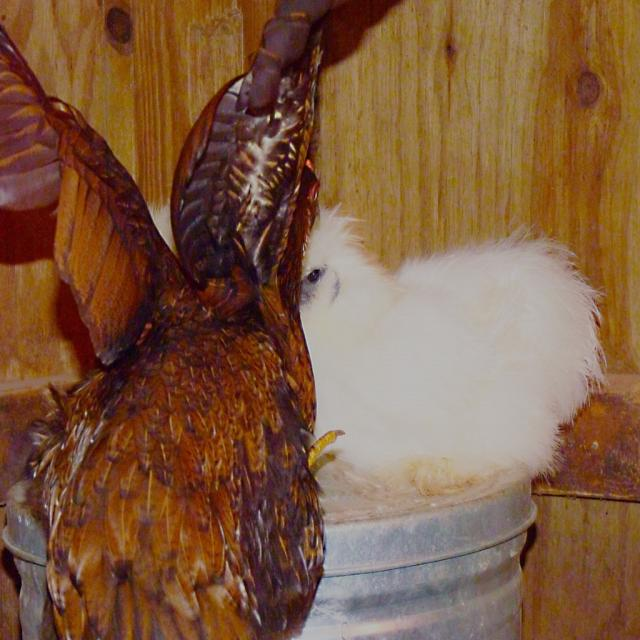Chicken: (0, 5, 345, 639)
